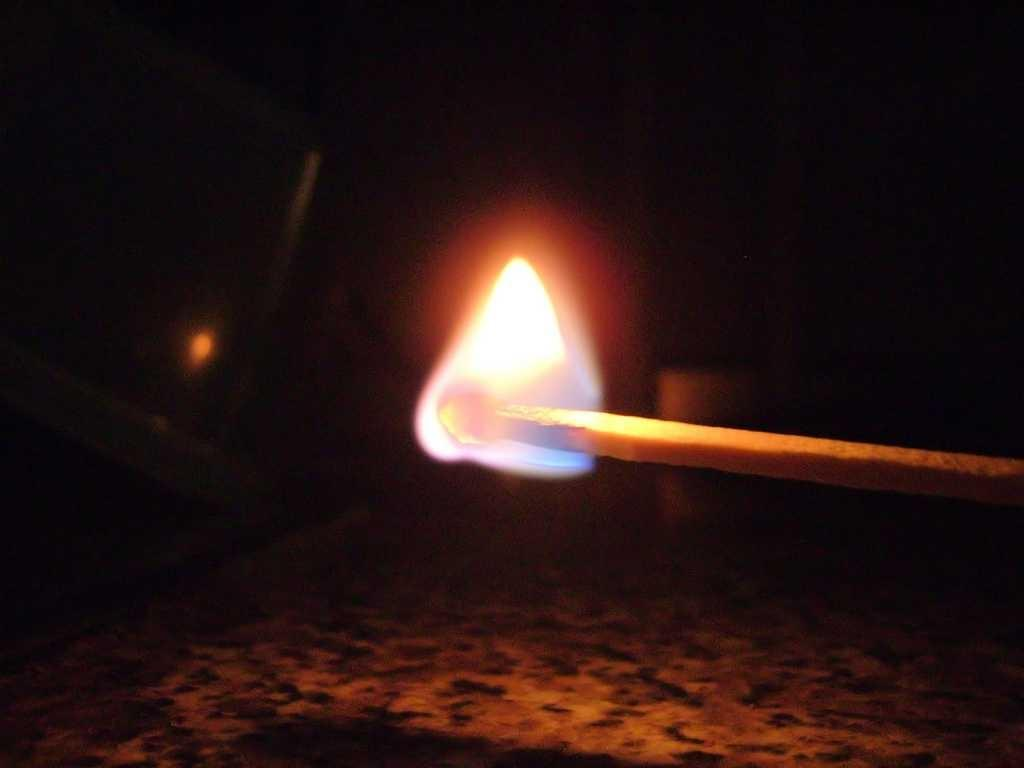fire: (444, 282, 566, 470)
